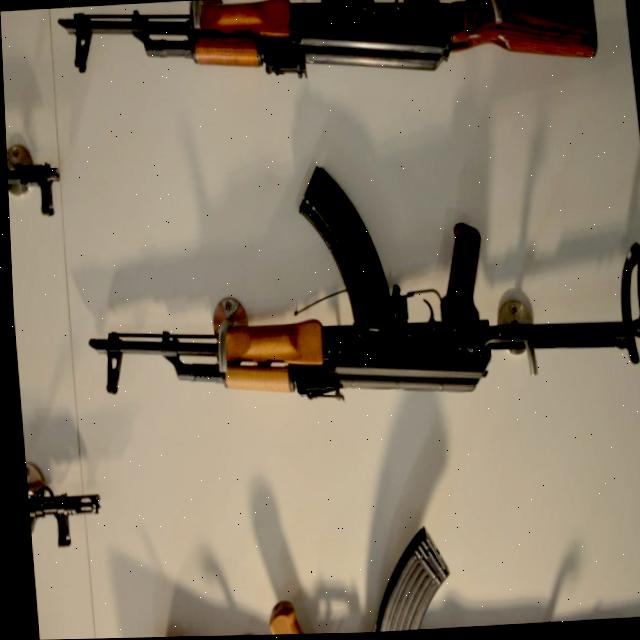firearm: (70, 145, 640, 418), (54, 0, 600, 96), (126, 598, 306, 638), (5, 153, 64, 223)
